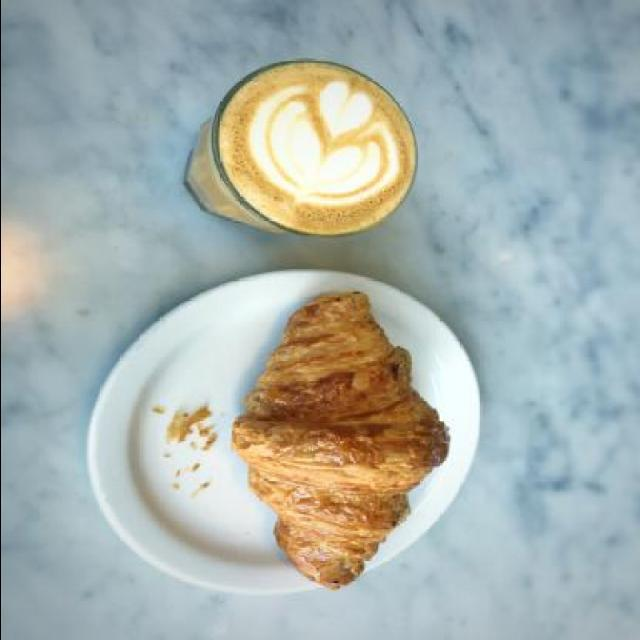Croissant: (233, 273, 450, 601)
